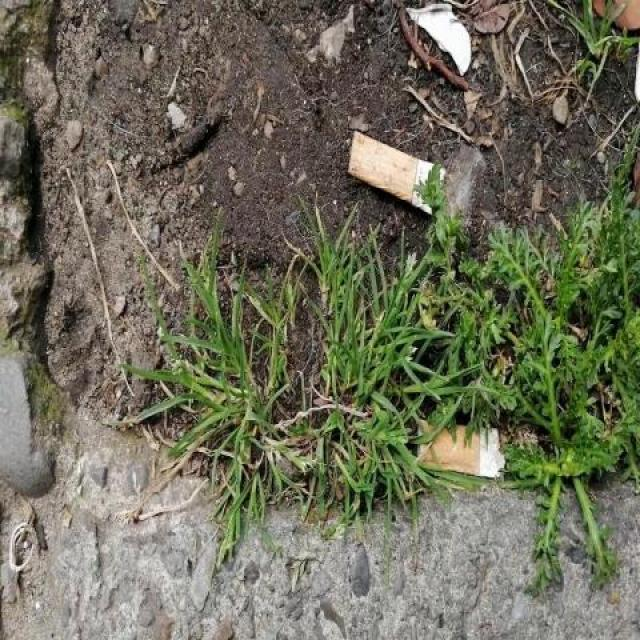non-organic waste: (341, 126, 448, 215), (413, 411, 511, 488)
